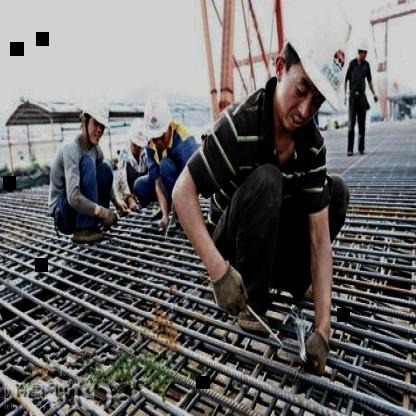helmet: (268, 16, 342, 140), (76, 84, 112, 152), (144, 83, 172, 149), (124, 113, 148, 159), (356, 34, 372, 64)
